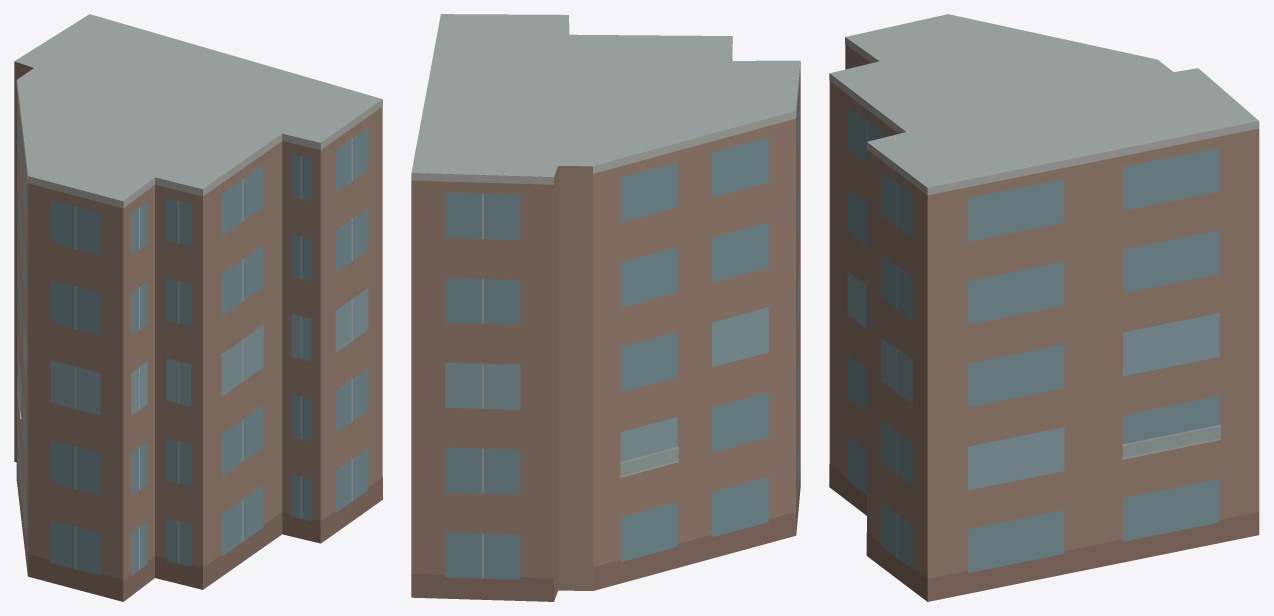
Rendered from survey-upis-32863018.glb.
3 views of the same model, side by side, from view 1: azimuth 30°, elevation 25°; view 2: azimuth 150°, elevation 25°; view 3: azimuth 270°, elevation 25° (orthographic). The views are drawn at different scales.
Parts seen in each view (by area): view 1: survey-upis-32863018.tmp; view 2: survey-upis-32863018.tmp; view 3: survey-upis-32863018.tmp.
Part boxes in pixels (left/top/right/bottom): survey-upis-32863018.tmp: left=14, top=14, right=382, bottom=601; survey-upis-32863018.tmp: left=411, top=14, right=800, bottom=601; survey-upis-32863018.tmp: left=829, top=14, right=1259, bottom=601.
Size of the model in its own units: 12.22 by 13.55 by 12.76.
